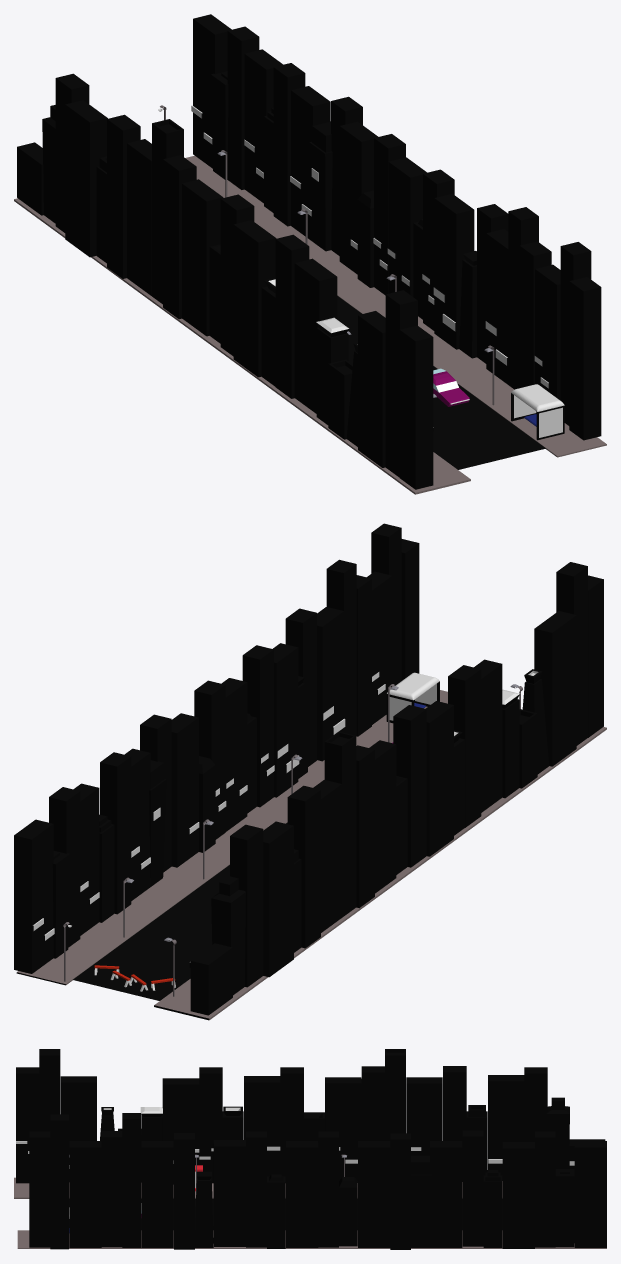
The model's file is City.fbx.
3 renders of one model, top to bottom at view 1: azimuth 30°, elevation 25°; view 2: azimuth 150°, elevation 25°; view 3: azimuth 270°, elevation 25°, orthographic. The views are drawn at different scales.
Visible parts, largest first — view 1: Buildings 2, Buildings 1, Ground 3, Ground 2, Ground, Bus Station, Car; view 2: Buildings 2, Buildings 1, Ground 3, Ground 2, Ground, Bus Station; view 3: Buildings 2, Buildings 1, Ground 3, Ground.
Boxes of the visible parts, bbox=[...] form: Buildings 2: bbox=[191, 14, 601, 440]; Buildings 1: bbox=[17, 73, 433, 489]; Ground 3: bbox=[185, 155, 606, 457]; Ground 2: bbox=[337, 296, 545, 469]; Ground: bbox=[14, 198, 470, 494]; Bus Station: bbox=[511, 384, 564, 440]; Car: bbox=[433, 368, 469, 406]; Buildings 2: bbox=[14, 523, 419, 973]; Buildings 1: bbox=[189, 562, 603, 1015]; Ground 3: bbox=[16, 690, 447, 985]; Ground 2: bbox=[73, 822, 287, 1000]; Ground: bbox=[154, 727, 606, 1020]; Bus Station: bbox=[386, 672, 439, 723]; Buildings 2: bbox=[29, 1113, 606, 1249]; Buildings 1: bbox=[16, 1049, 605, 1184]; Ground 3: bbox=[17, 1230, 606, 1248]; Ground: bbox=[14, 1177, 502, 1198].
Bounding box in the file's own units: 30243 × 24785 × 101515.
